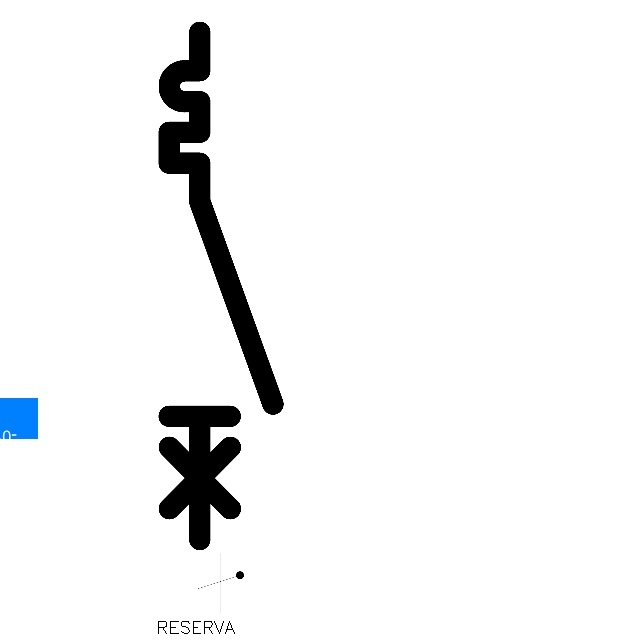interruptor_termomagnetico: (156, 19, 286, 552)
